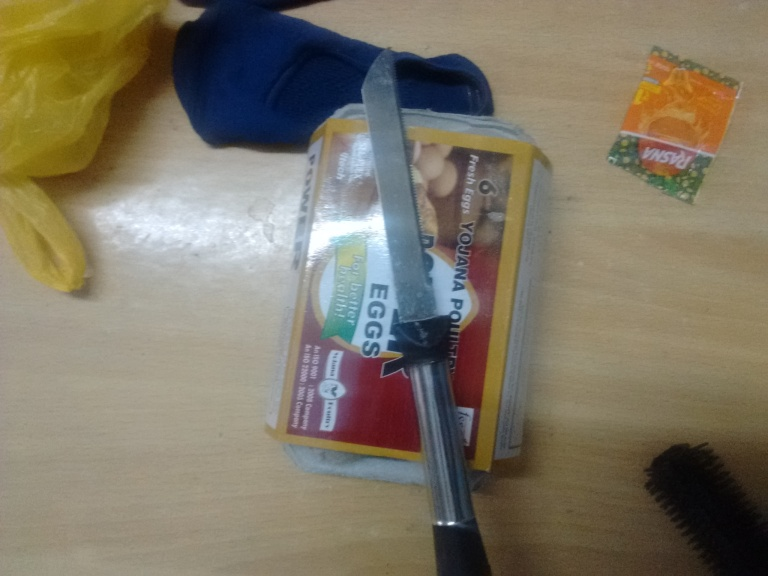knife: (361, 46, 492, 576)
